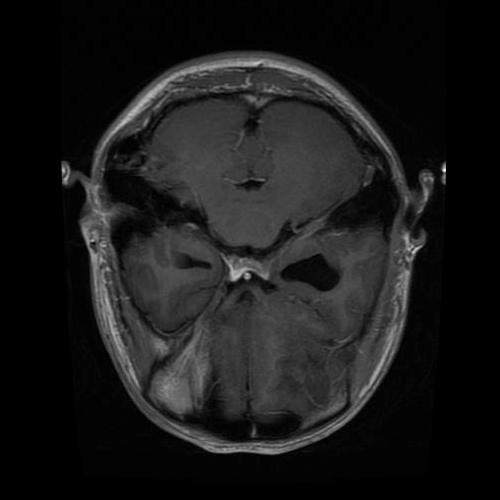Tumour-Glioma: (141, 316, 233, 418)
